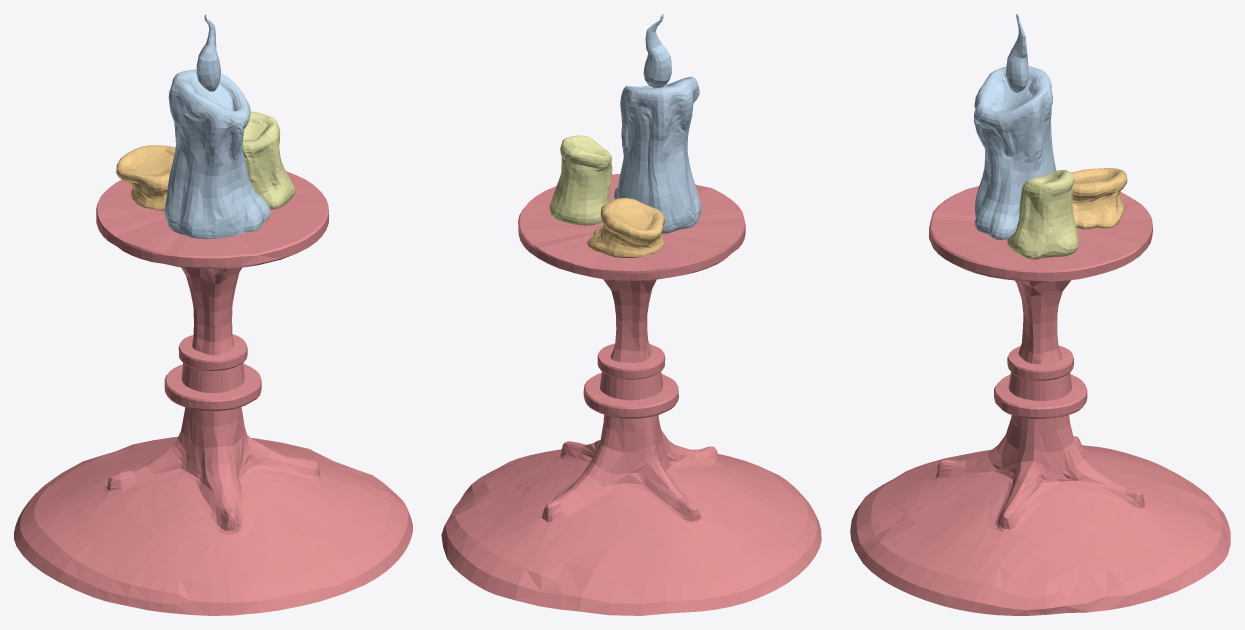
The model's file is 110172_assembly.glb.
3 views of the same model, side by side, from view 1: azimuth 30°, elevation 25°; view 2: azimuth 150°, elevation 25°; view 3: azimuth 270°, elevation 25° (orthographic). The views are drawn at different scales.
Parts seen in each view (by area): view 1: part_00, part_03, part_02, part_01; view 2: part_00, part_03, part_02, part_01; view 3: part_00, part_03, part_02, part_01.
Boxes of the visible parts, x1,y1,x2,y2 form: part_00: (14, 171, 412, 615); part_03: (164, 14, 270, 239); part_02: (242, 111, 295, 209); part_01: (116, 145, 175, 210); part_00: (441, 174, 821, 615); part_03: (614, 14, 701, 233); part_02: (549, 135, 612, 225); part_01: (587, 198, 664, 257); part_00: (850, 186, 1230, 615); part_03: (974, 14, 1056, 239); part_02: (1007, 170, 1079, 259); part_01: (1071, 168, 1127, 229).
Size of the model in its own units: 1 by 1.49 by 1.
